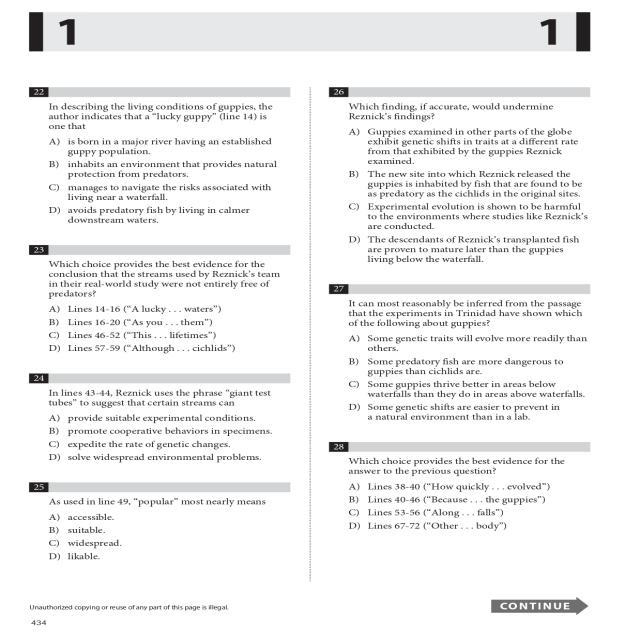Answer_Block: (316, 127, 594, 266), (316, 479, 594, 580), (22, 136, 303, 231), (316, 332, 594, 424), (22, 512, 303, 582), (22, 411, 303, 466), (22, 304, 303, 357)
Question_Answer_Block: (316, 80, 594, 266), (22, 83, 303, 231), (316, 282, 594, 424), (316, 442, 594, 580), (22, 244, 303, 357), (22, 483, 303, 582), (22, 372, 303, 466)
Question_Block: (22, 244, 303, 303), (22, 83, 303, 136), (316, 282, 594, 330), (316, 80, 594, 127), (22, 372, 303, 410), (316, 442, 594, 478), (22, 483, 303, 510)
Question_Paper_Area: (22, 82, 303, 582), (316, 80, 594, 580)
